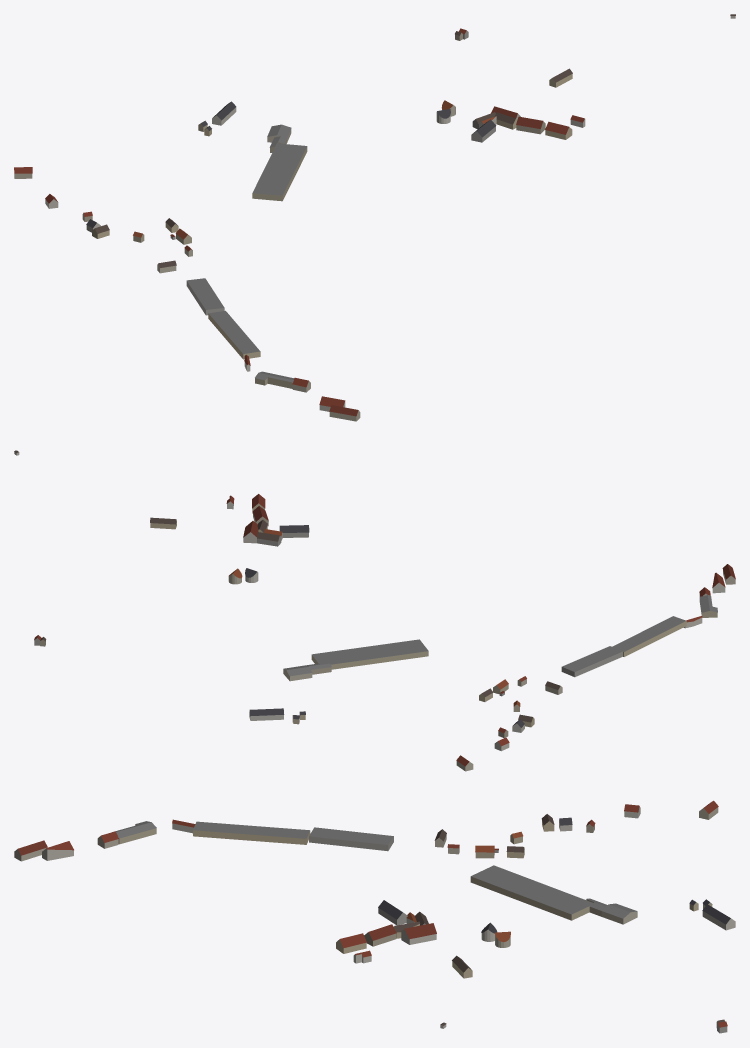
3 views of the same model, one above another, from view 1: azimuth 30°, elevation 25°; view 2: azimuth 150°, elevation 25°; view 3: azimuth 270°, elevation 25° (orthographic). The views are drawn at different scales.
Parts seen in each view (by area): view 1: buildings; view 2: buildings; view 3: buildings.
Boxes of the visible parts, box(x1,y1,x2,y2) form: buildings: box(14, 14, 735, 421); buildings: box(14, 450, 735, 771); buildings: box(14, 800, 735, 1033).
Size of the model in its own units: 703 by 143 by 636.
